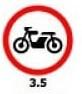road_sign: (1, 4, 75, 78)
